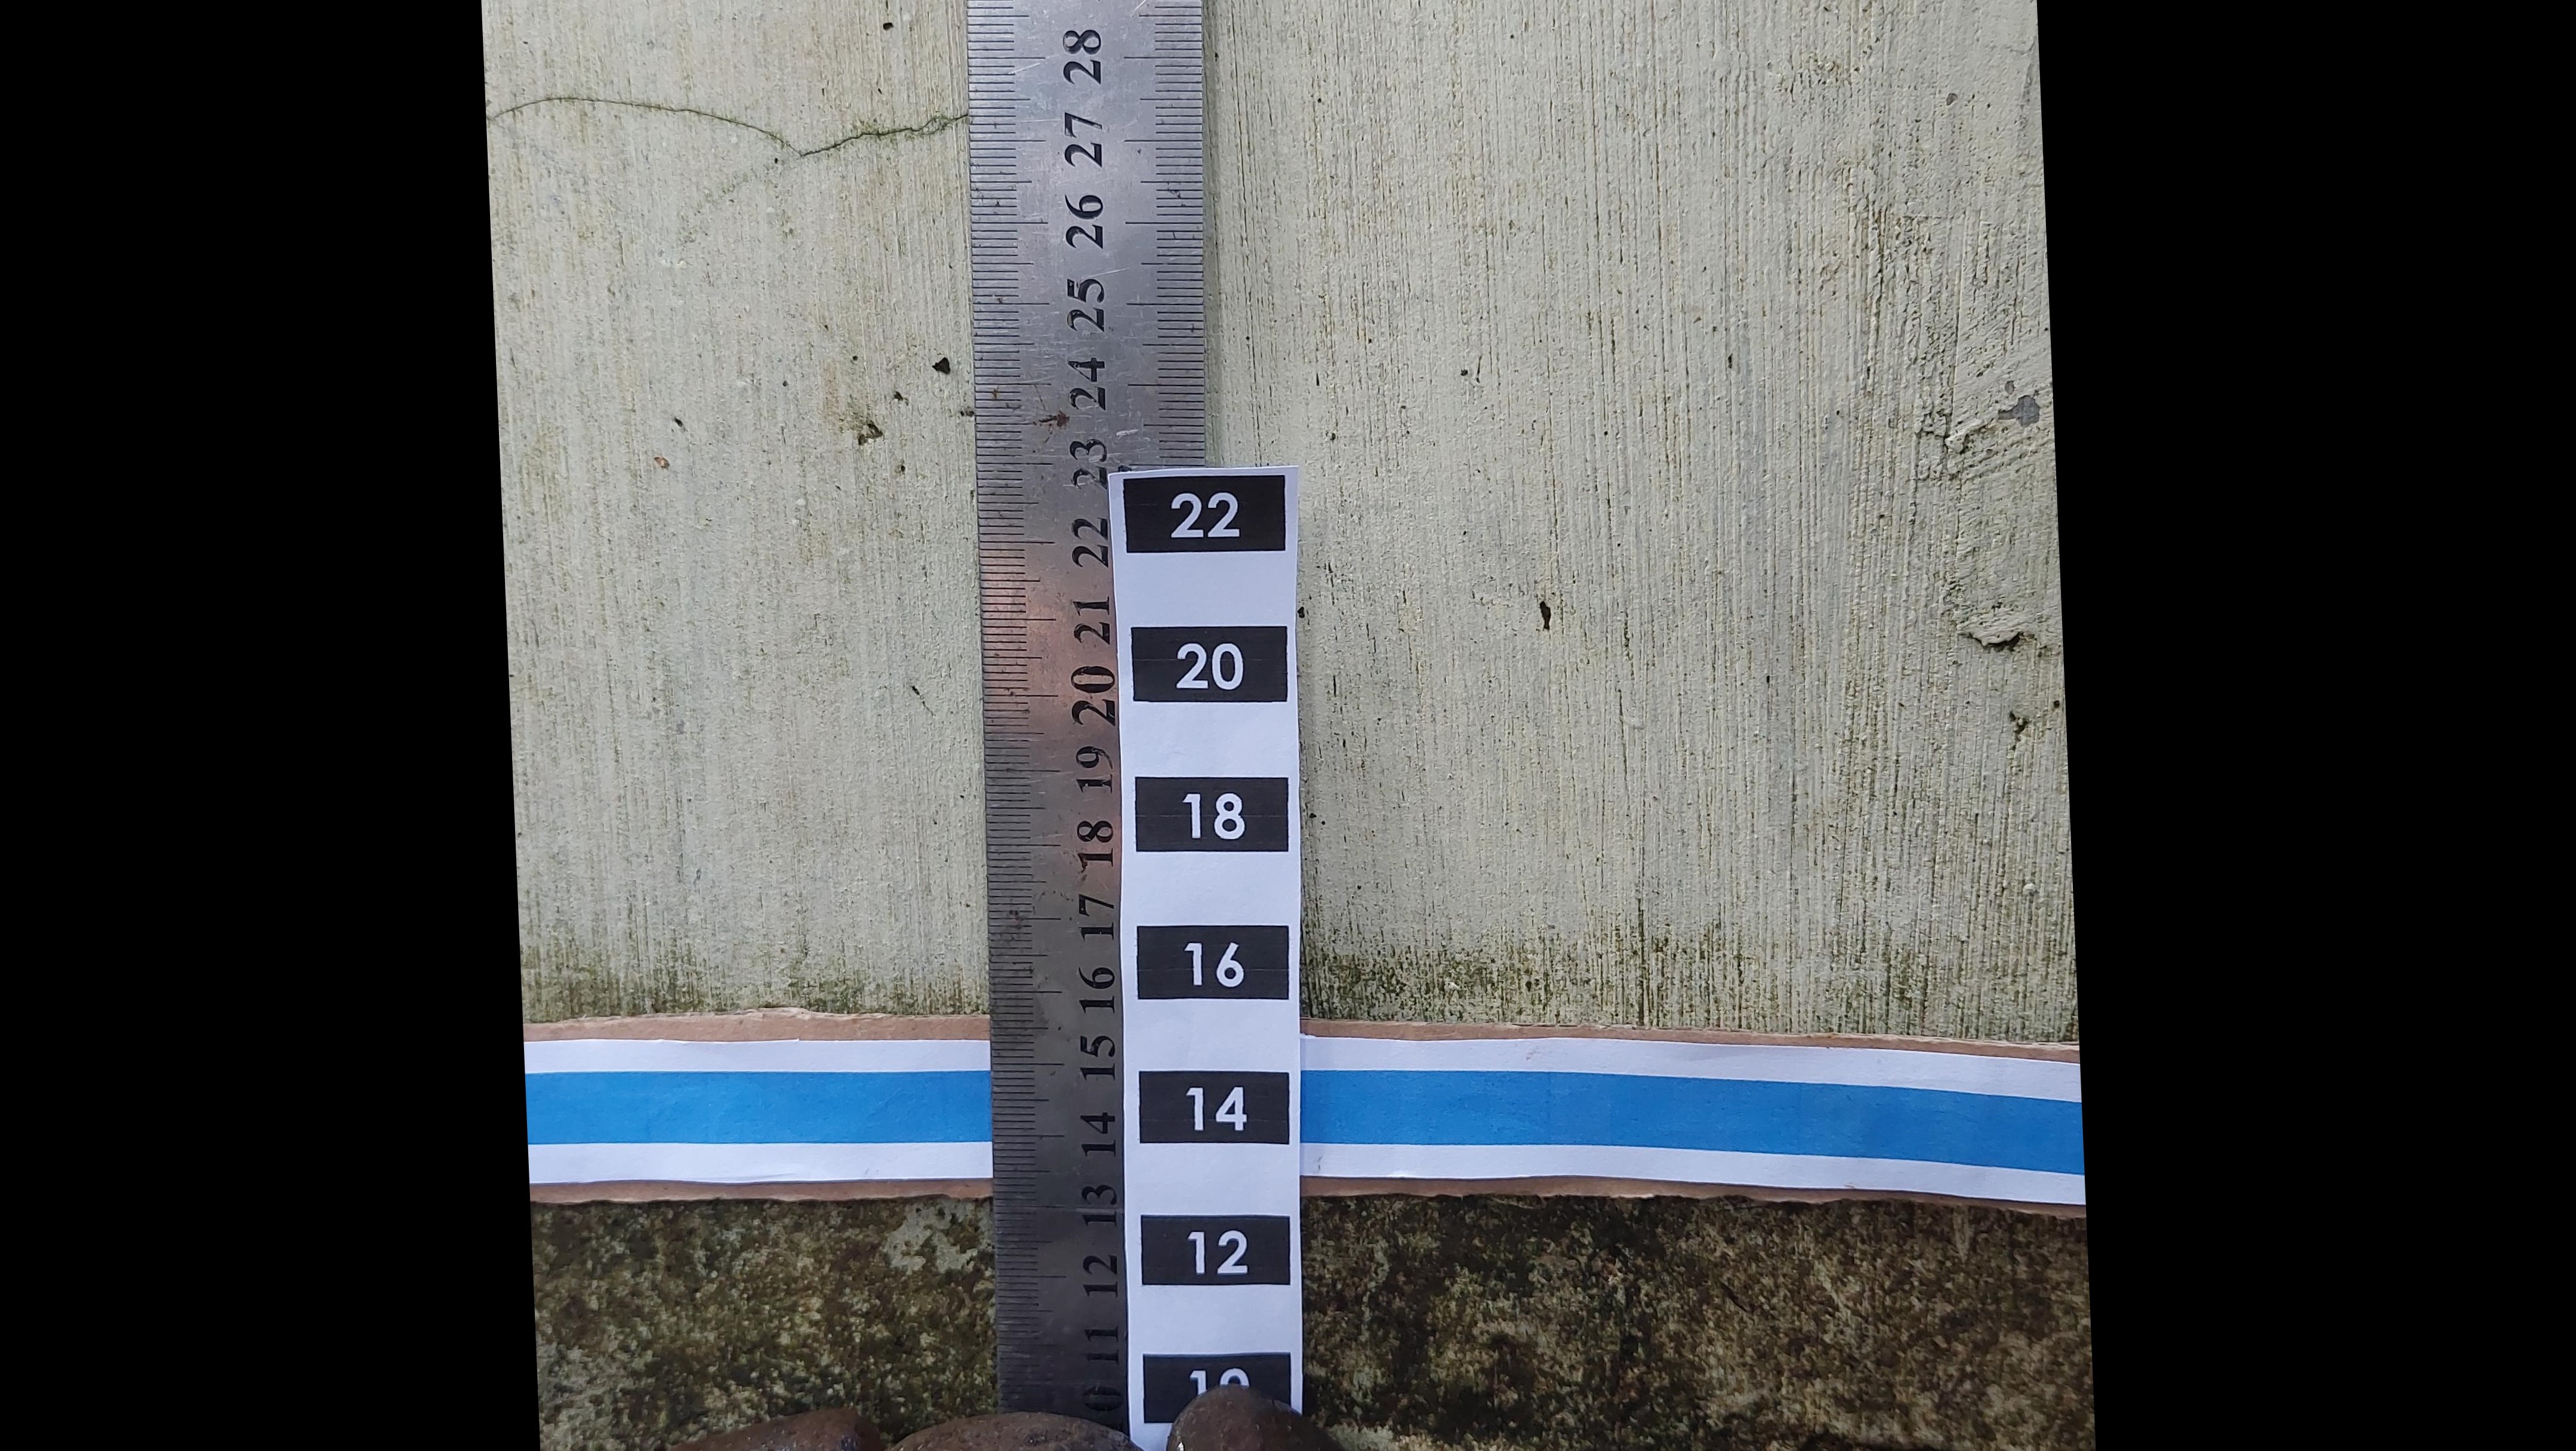kotak_2x1: (1122, 474, 1284, 554), (1132, 628, 1288, 706), (1136, 925, 1288, 1002), (1139, 1071, 1290, 1143), (1136, 779, 1288, 848), (1145, 1216, 1292, 1285)
